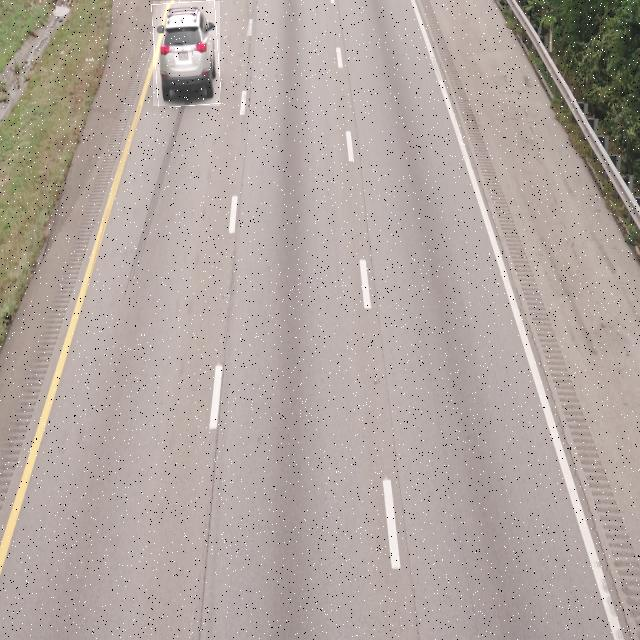Car: (153, 1, 220, 106)
